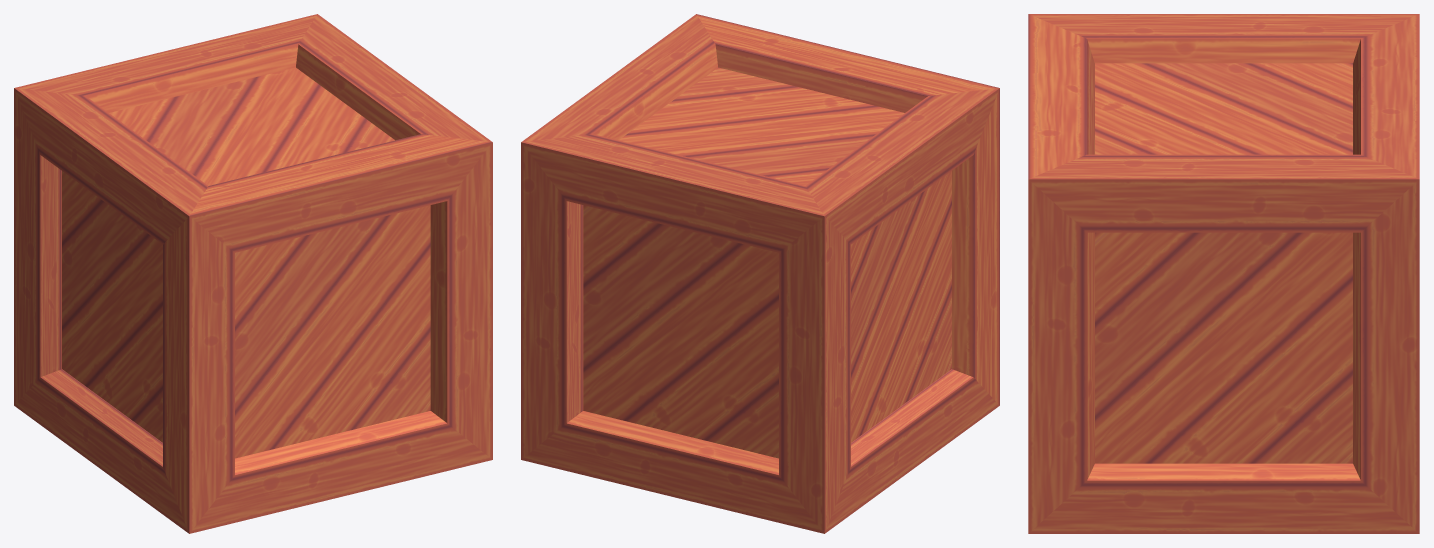
Rendered from Crate.fbx.
3 views of the same model, side by side, from view 1: azimuth 30°, elevation 25°; view 2: azimuth 150°, elevation 25°; view 3: azimuth 270°, elevation 25° (orthographic). The views are drawn at different scales.
Visible parts, largest first — view 1: Crate; view 2: Crate; view 3: Crate.
Part boxes in pixels (left/top/right/bottom): Crate: left=14, top=14, right=492, bottom=533; Crate: left=521, top=14, right=999, bottom=533; Crate: left=1028, top=14, right=1419, bottom=533.
Bounding box in the file's own units: 1 × 1 × 1.
